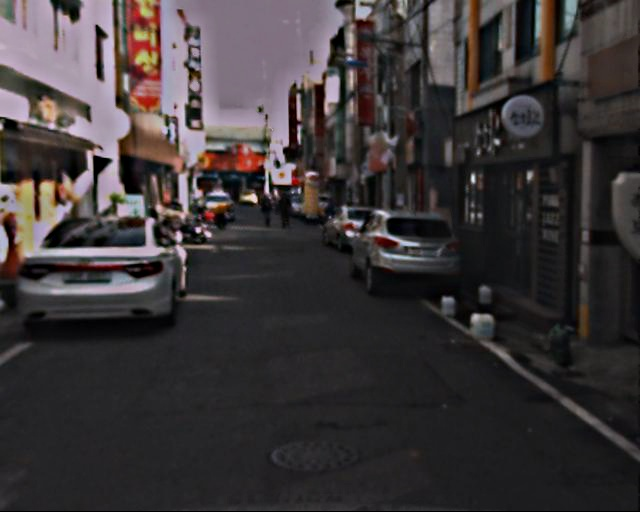person: (277, 186, 293, 226), (261, 187, 277, 226)
